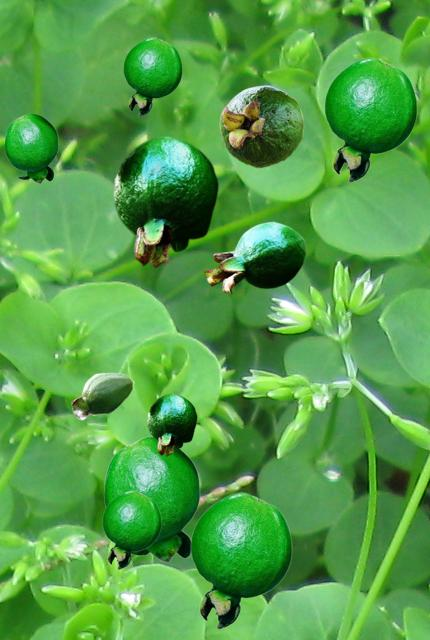guava: (113, 135, 218, 267), (190, 492, 291, 628), (103, 436, 199, 561), (324, 57, 416, 181), (204, 221, 305, 293), (219, 85, 303, 167), (123, 37, 181, 115), (102, 490, 160, 568), (4, 113, 57, 182), (147, 393, 196, 455), (71, 372, 133, 419)
